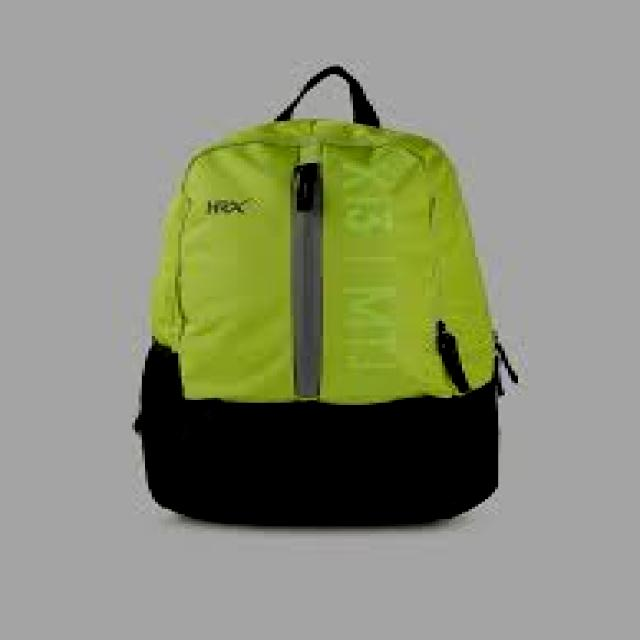backpack: (133, 66, 519, 523)
